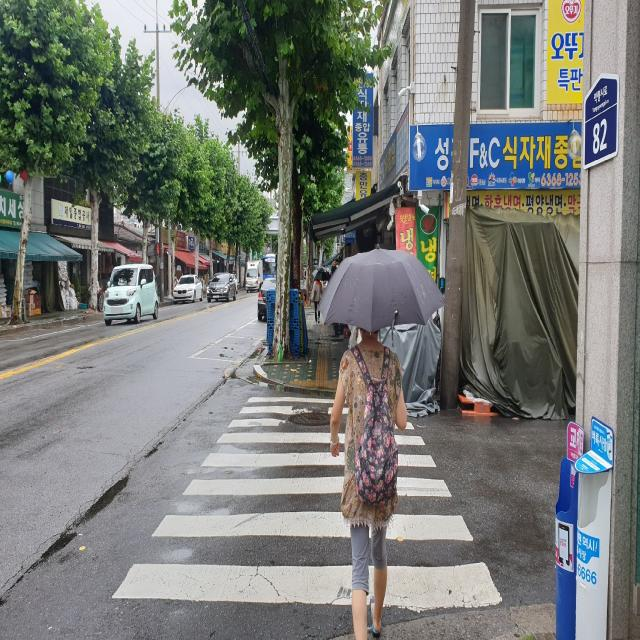횡단보도: (110, 395, 503, 615)
